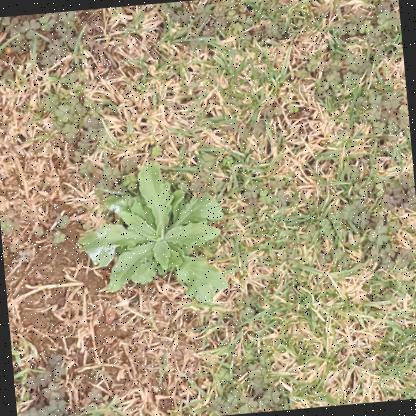Weeds: (70, 157, 232, 316)
